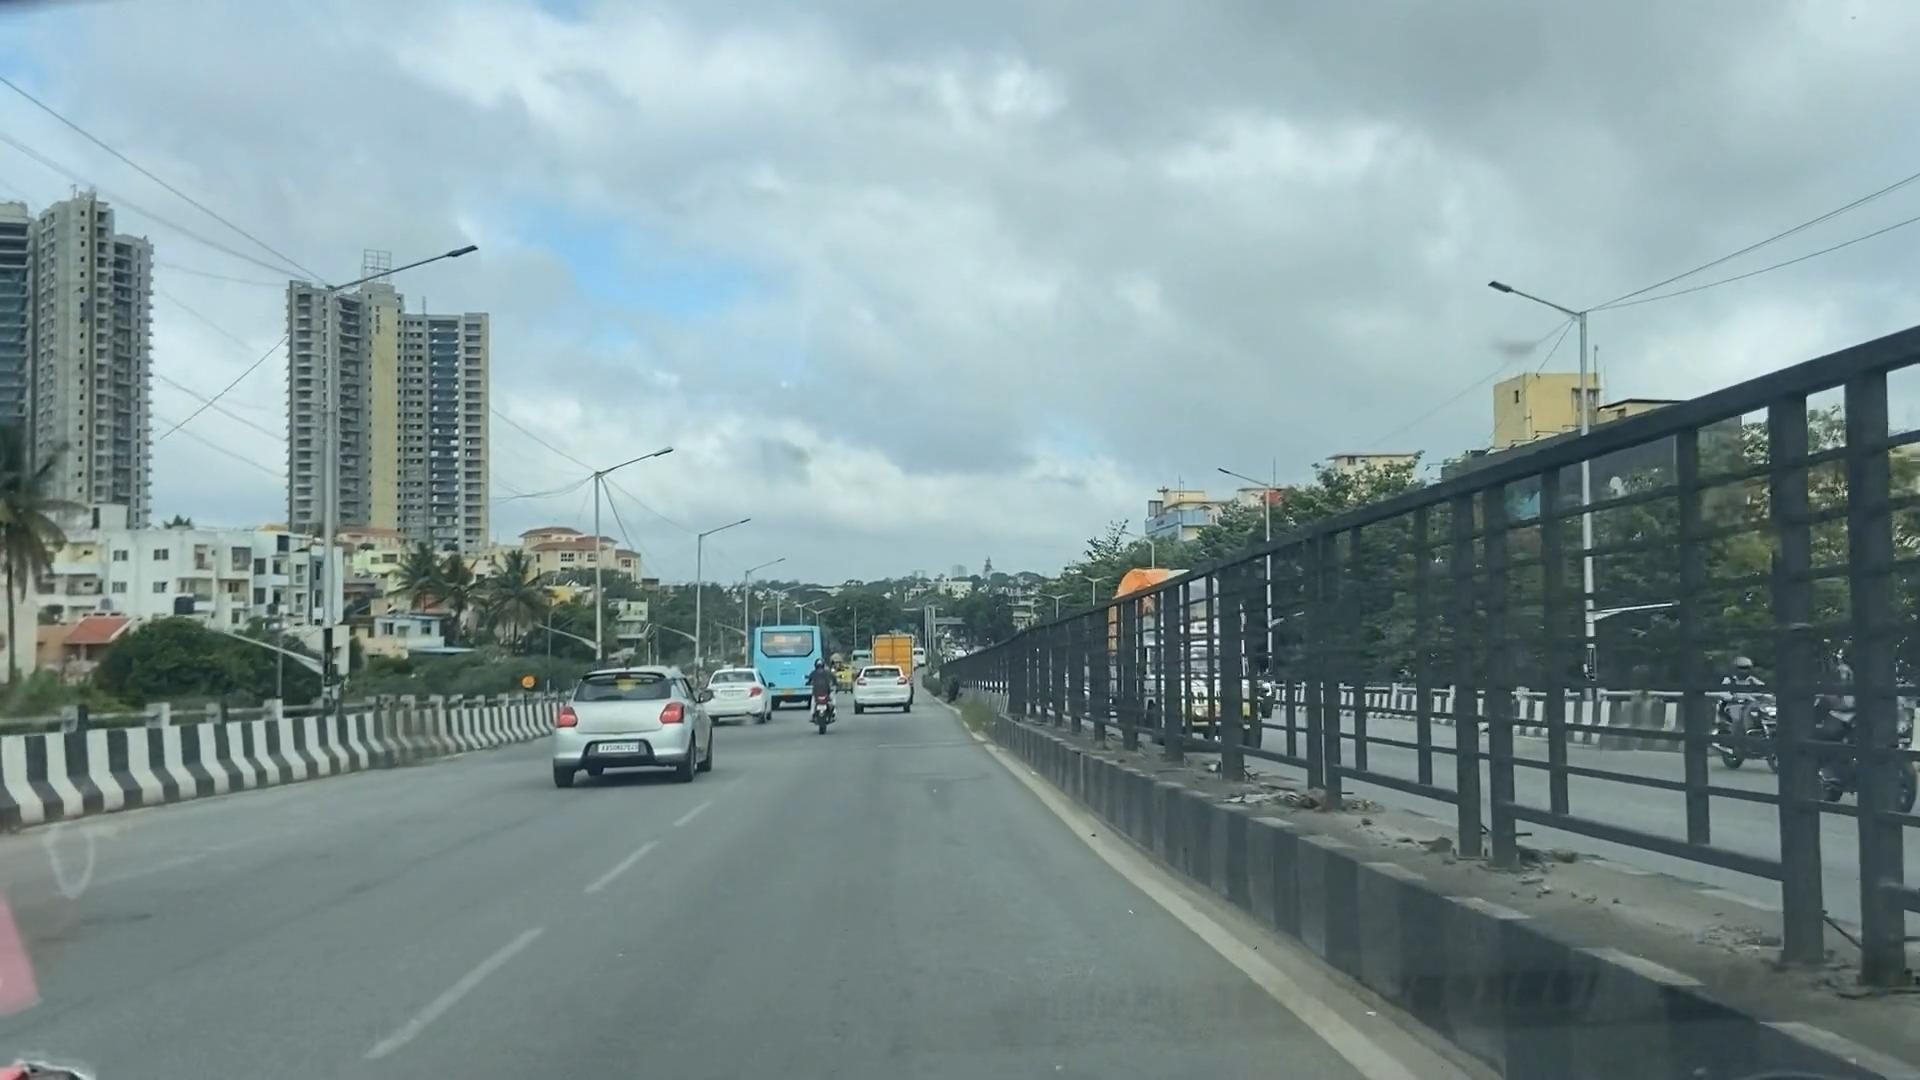HMV: (749, 609, 841, 738)
LMV: (549, 637, 720, 811), (779, 622, 862, 765), (692, 655, 779, 737), (843, 653, 927, 735)
